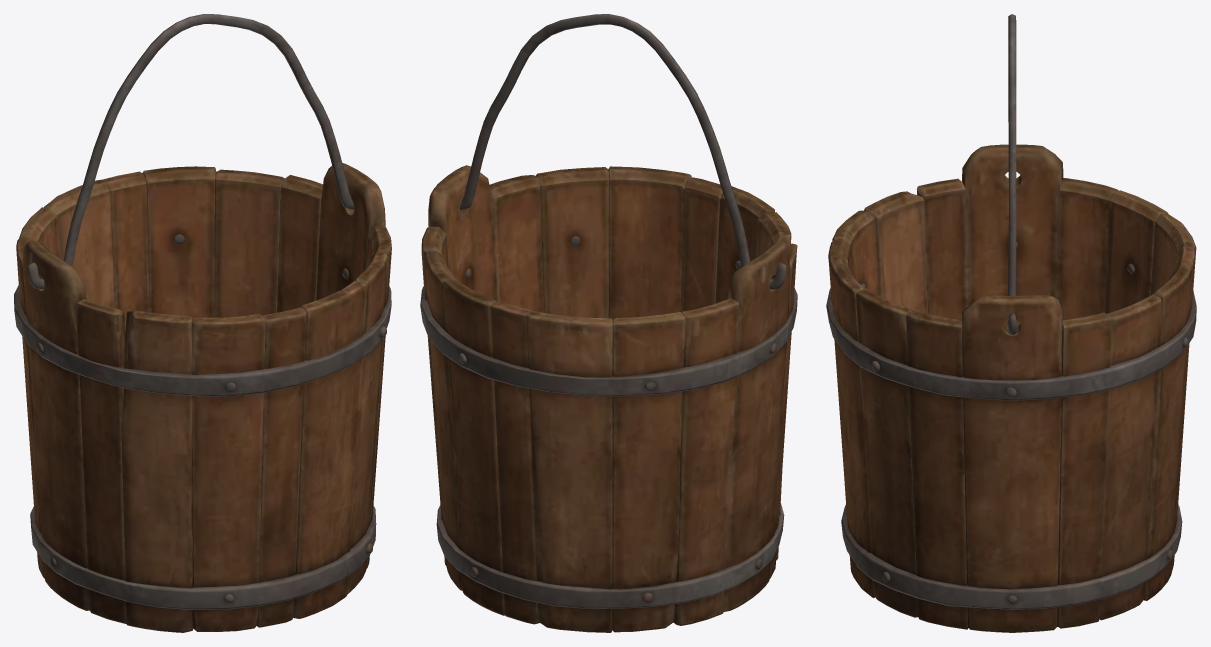
Rendered from wooden_bucket_01_1k.gltf.
3 renders of one model, left to right at view 1: azimuth 30°, elevation 25°; view 2: azimuth 150°, elevation 25°; view 3: azimuth 270°, elevation 25°, orthographic.
Parts seen in each view (by area): view 1: wooden_bucket_01, wooden_bucket_01_handle; view 2: wooden_bucket_01, wooden_bucket_01_handle; view 3: wooden_bucket_01, wooden_bucket_01_handle.
Part boxes in pixels (box(x1,y1,x2,y2)): wooden_bucket_01: box(14, 163, 391, 632); wooden_bucket_01_handle: box(27, 14, 354, 289); wooden_bucket_01: box(420, 165, 797, 632); wooden_bucket_01_handle: box(437, 14, 786, 289); wooden_bucket_01: box(826, 144, 1196, 632); wooden_bucket_01_handle: box(1008, 14, 1016, 335).
Bounding box in the file's own units: 0.367 × 0.5499 × 0.3422.
Materials: 1 (1 with a texture image).
